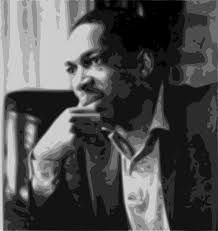no-mask: (55, 17, 139, 128)
